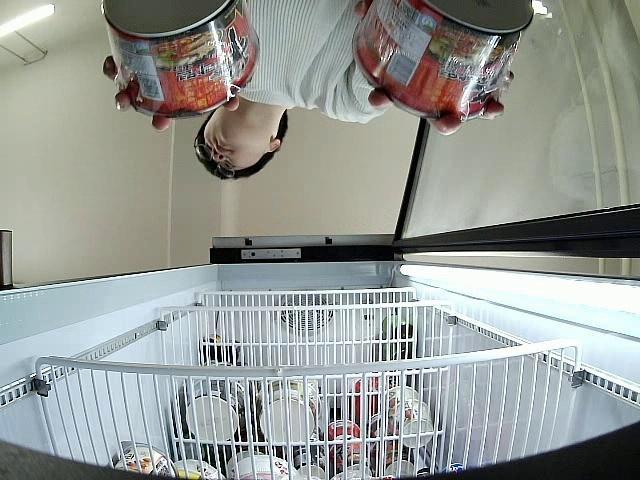01_ShinRamen_L: (352, 0, 535, 124), (100, 0, 261, 116)
